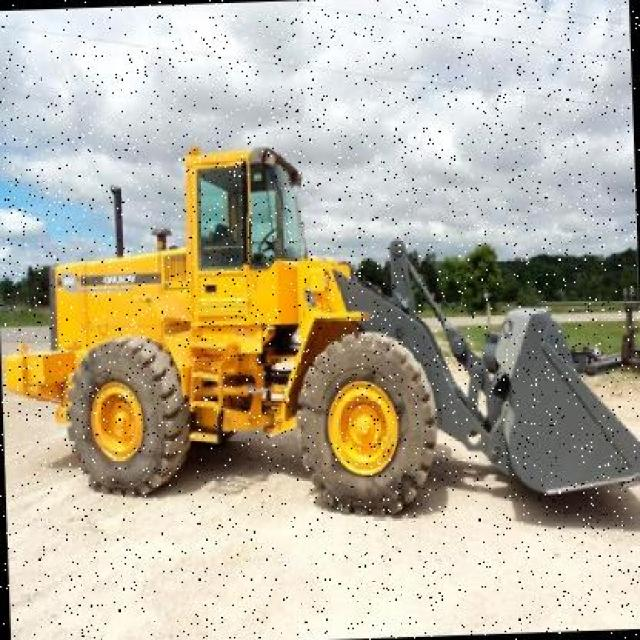buldozerpayloadergrader: (40, 120, 640, 525)
